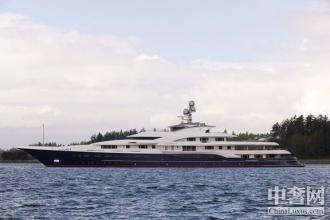yacht: (15, 100, 303, 171)
